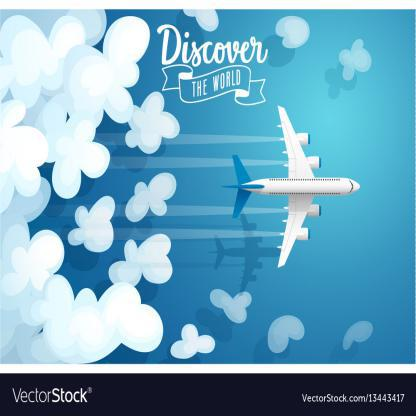CIV_Plane: (214, 101, 368, 280)
